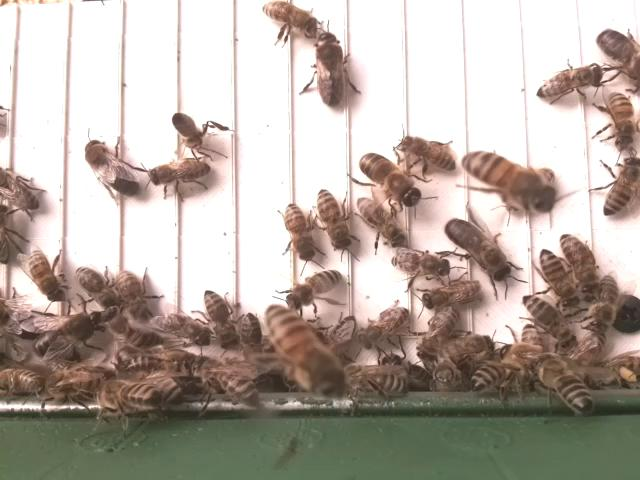Drone: (441, 214, 513, 285), (356, 150, 425, 208), (82, 135, 143, 199), (310, 28, 349, 110)
Worker: (461, 149, 549, 210), (558, 228, 600, 297), (355, 195, 408, 249), (522, 291, 573, 347), (283, 267, 345, 313), (534, 62, 604, 101), (20, 247, 68, 303), (415, 306, 462, 363), (599, 153, 640, 218), (314, 187, 353, 255), (114, 264, 157, 324), (357, 305, 412, 351), (538, 247, 578, 308), (201, 284, 237, 351), (399, 131, 459, 171), (72, 263, 119, 314), (282, 199, 316, 265), (419, 277, 485, 311), (146, 158, 217, 188), (604, 89, 638, 151), (262, 0, 322, 35), (389, 248, 452, 279)
